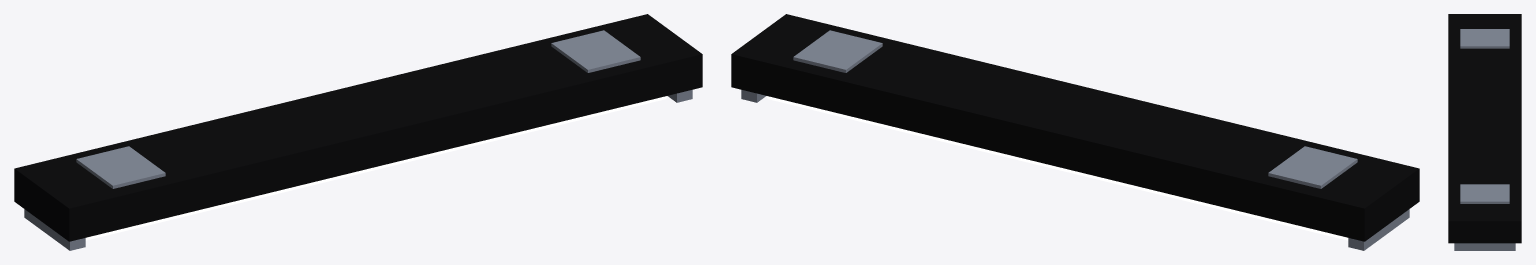
Rendered from SM_Light_Fluorescent_1.2m.glb.
3 views of the same model, side by side, from view 1: azimuth 30°, elevation 25°; view 2: azimuth 150°, elevation 25°; view 3: azimuth 270°, elevation 25° (orthographic). The views are drawn at different scales.
Parts seen in each view (by area): view 1: SM_Light_Fluorescent_1.2m; view 2: SM_Light_Fluorescent_1.2m; view 3: SM_Light_Fluorescent_1.2m.
Part boxes in pixels (<box>): SM_Light_Fluorescent_1.2m: <box>14,14,702,250</box>; SM_Light_Fluorescent_1.2m: <box>731,14,1419,250</box>; SM_Light_Fluorescent_1.2m: <box>1448,14,1521,250</box>.
Bounding box in the file's own units: 1.2 × 0.094 × 0.18.
